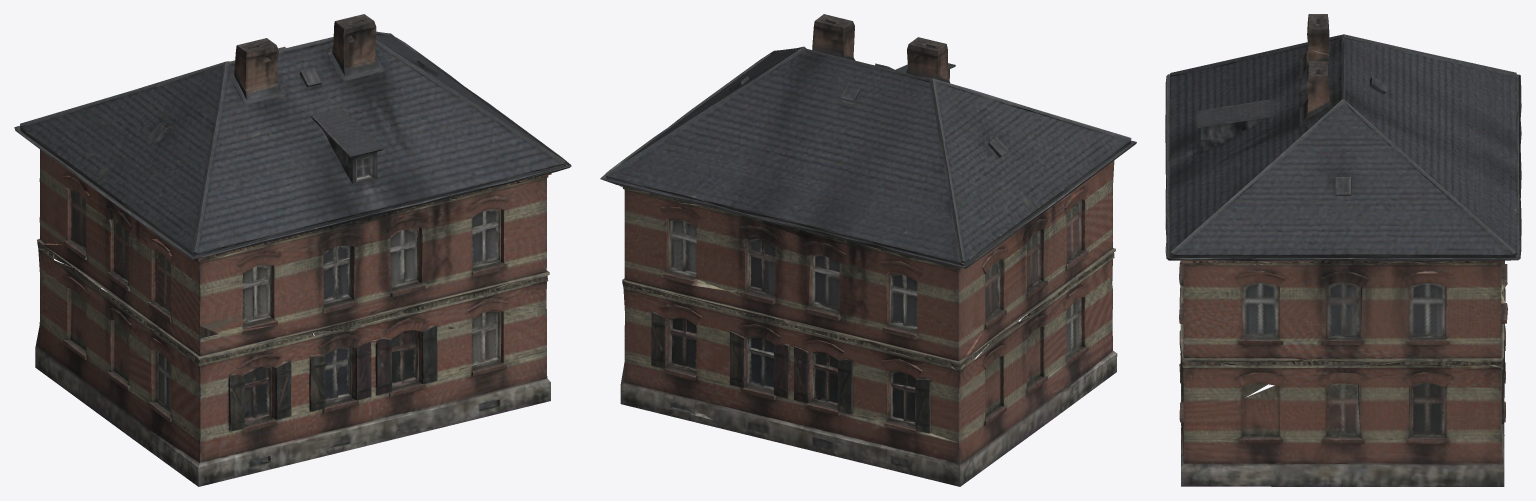
File: mid_familok_house_b.glb
The picture shows the model from 3 angles, left to right: view 1: azimuth 30°, elevation 25°; view 2: azimuth 150°, elevation 25°; view 3: azimuth 270°, elevation 25°; orthographic projection. The views are drawn at different scales.
Visible parts, largest first — view 1: main; view 2: main; view 3: main.
Boxes of the visible parts, left/top/right/bottom form: main: left=14, top=14, right=571, bottom=486; main: left=600, top=14, right=1136, bottom=486; main: left=1165, top=14, right=1521, bottom=486.
Size of the model in its own units: 9.44 by 8.5 by 7.69.
1 material, 1 textured.
